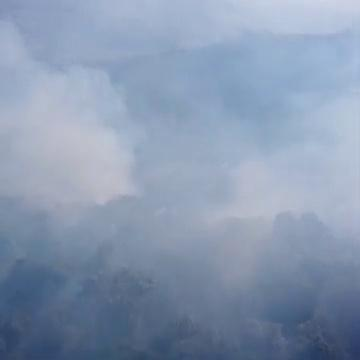smoke: (23, 89, 120, 191), (47, 286, 160, 335)
